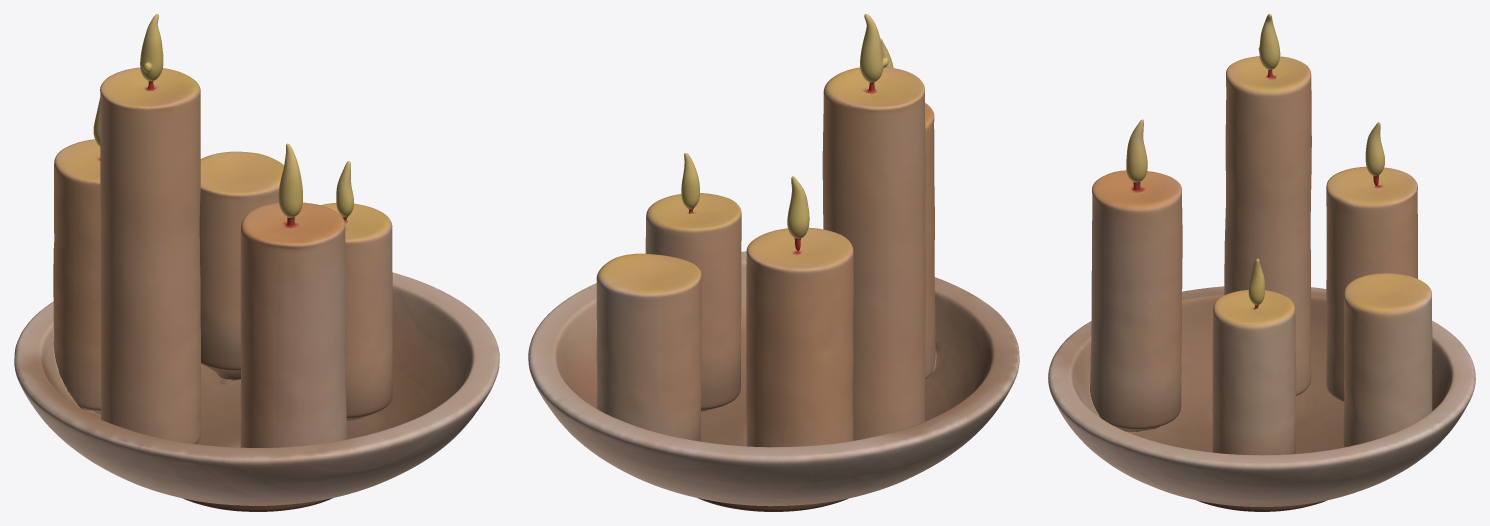
Rendered from detailed_realistic_model_floatingcandles_21.glb.
3 views of the same model, side by side, from view 1: azimuth 30°, elevation 25°; view 2: azimuth 150°, elevation 25°; view 3: azimuth 270°, elevation 25° (orthographic). The views are drawn at different scales.
Parts seen in each view (by area): view 1: tripo_node_467e8526-3dab-41f6-98bf-11384c5ab62a; view 2: tripo_node_467e8526-3dab-41f6-98bf-11384c5ab62a; view 3: tripo_node_467e8526-3dab-41f6-98bf-11384c5ab62a.
Boxes of the visible parts, x1,y1,x2,y2 form: tripo_node_467e8526-3dab-41f6-98bf-11384c5ab62a: (14,14,499,511); tripo_node_467e8526-3dab-41f6-98bf-11384c5ab62a: (528,14,1019,511); tripo_node_467e8526-3dab-41f6-98bf-11384c5ab62a: (1048,14,1475,511).
Bounding box in the file's own units: 0.9284 × 1 × 0.9234.
Materials: 1 (1 with a texture image).
